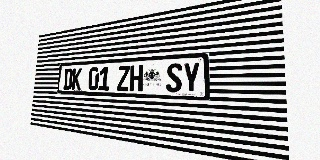0: (88, 67, 99, 90)
1: (98, 66, 110, 91)
D: (63, 68, 73, 90)
H: (129, 65, 143, 91)
K: (72, 68, 82, 90)
S: (166, 63, 182, 92)
Y: (183, 62, 200, 93)
Z: (117, 65, 130, 91)
